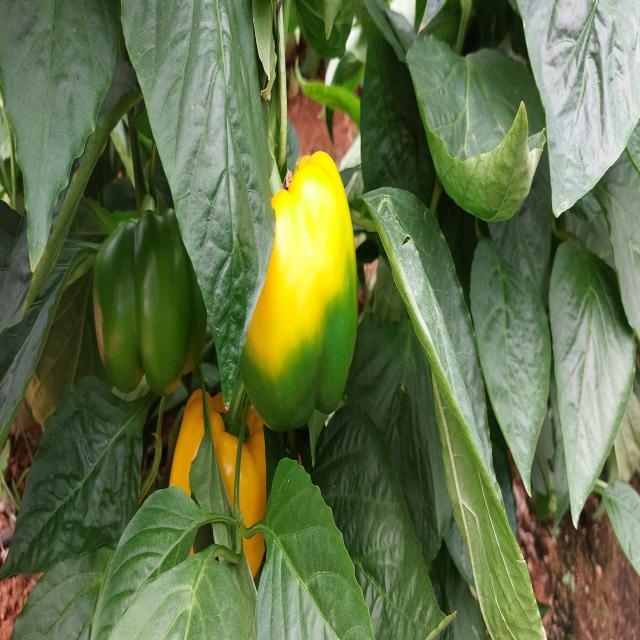Green--Not-ready-to-harvest: (95, 190, 208, 410)
GreenishYellow--Can-be-Harvested: (216, 156, 374, 418)
Yellow-Ready-to-Harvest: (180, 390, 272, 613)
